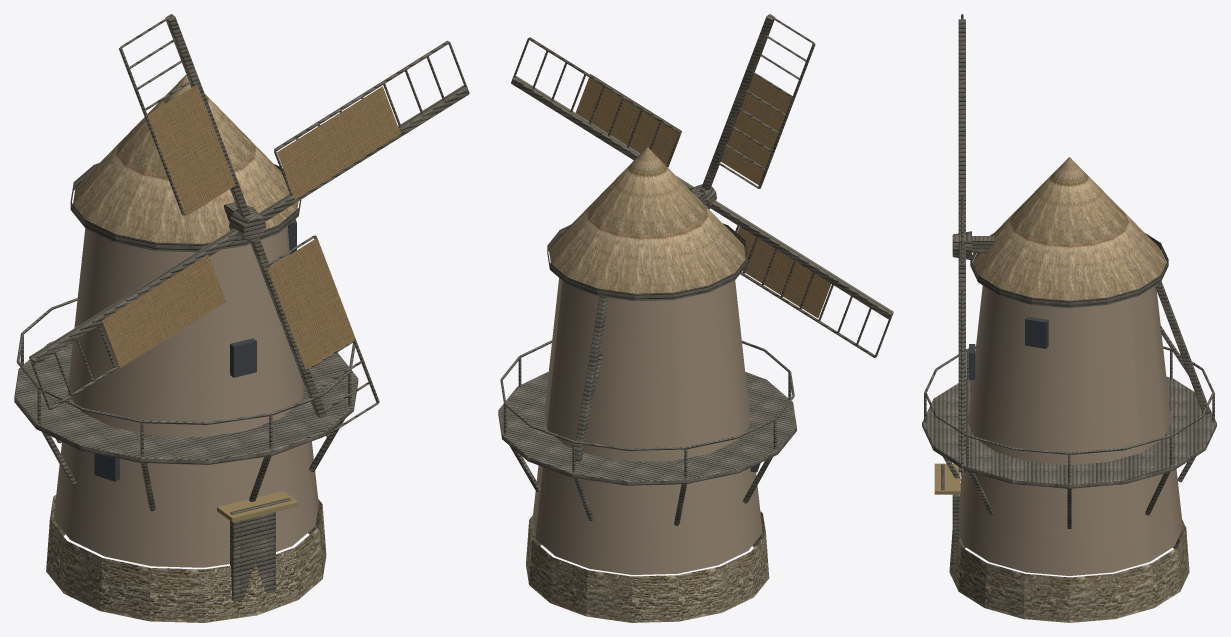
The model's file is windmill.glb.
3 renders of one model, left to right at view 1: azimuth 30°, elevation 25°; view 2: azimuth 150°, elevation 25°; view 3: azimuth 270°, elevation 25°, orthographic. The views are drawn at different scales.
Parts seen in each view (by area): view 1: windmill-base; view 2: windmill-base; view 3: windmill-base.
Boxes of the visible parts, x1,y1,x2,y2 form: windmill-base: (14, 14, 469, 622); windmill-base: (498, 14, 893, 622); windmill-base: (922, 14, 1216, 622).
Bounding box in the file's own units: 13.22 × 17.71 × 9.08.
7 materials, 6 textured.
